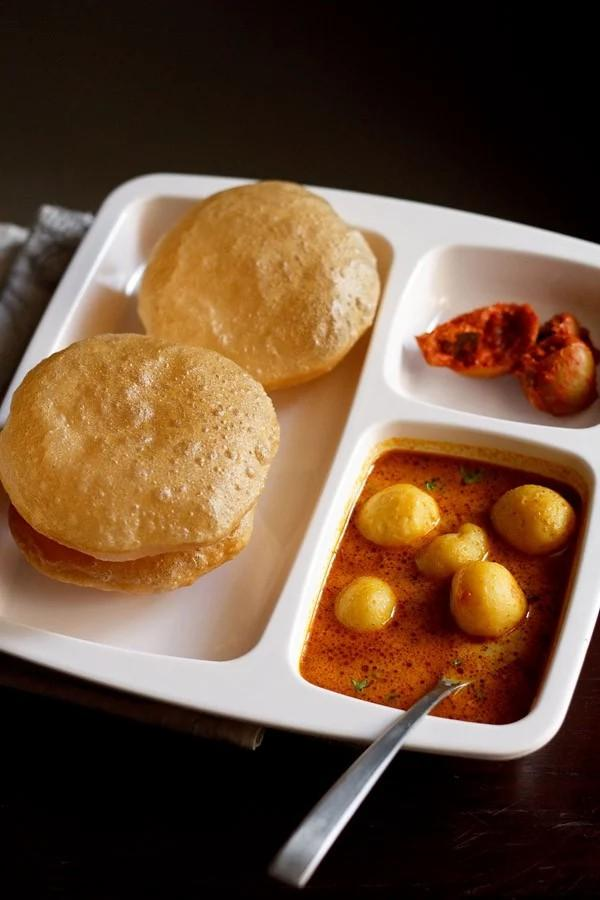DumAloo: (297, 442, 600, 721)
